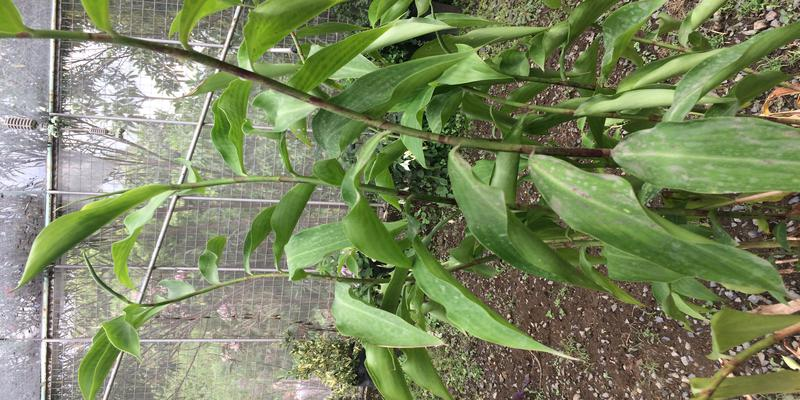Insulin: (225, 14, 795, 311)
